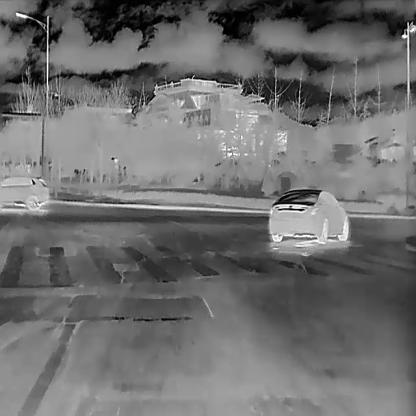car: (267, 188, 350, 243), (0, 174, 49, 210)
